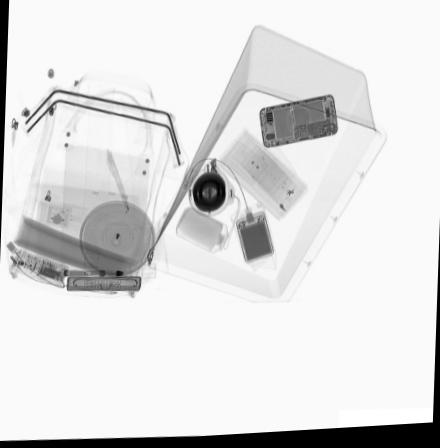Powerbank: (233, 212, 275, 268)
